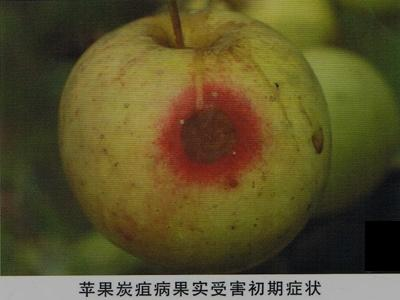rotten apple: (57, 12, 335, 274)
